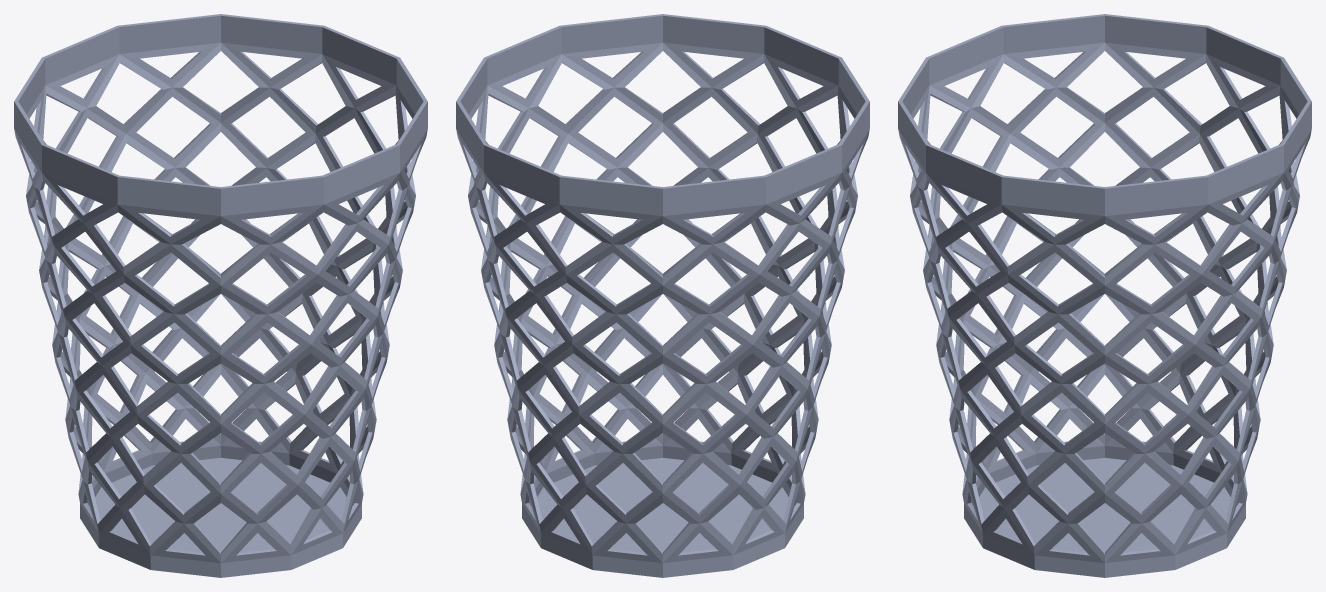
The model's file is trashcan.fbx.
The picture shows the model from 3 angles, left to right: view 1: azimuth 30°, elevation 25°; view 2: azimuth 150°, elevation 25°; view 3: azimuth 270°, elevation 25°; orthographic projection.
Visible parts, largest first — view 1: Cylinder; view 2: Cylinder; view 3: Cylinder.
Boxes of the visible parts, x1,y1,x2,y2 form: Cylinder: [14, 14, 427, 577]; Cylinder: [456, 14, 869, 577]; Cylinder: [898, 14, 1311, 577].
Size of the model in its own units: 200 by 222 by 200.
